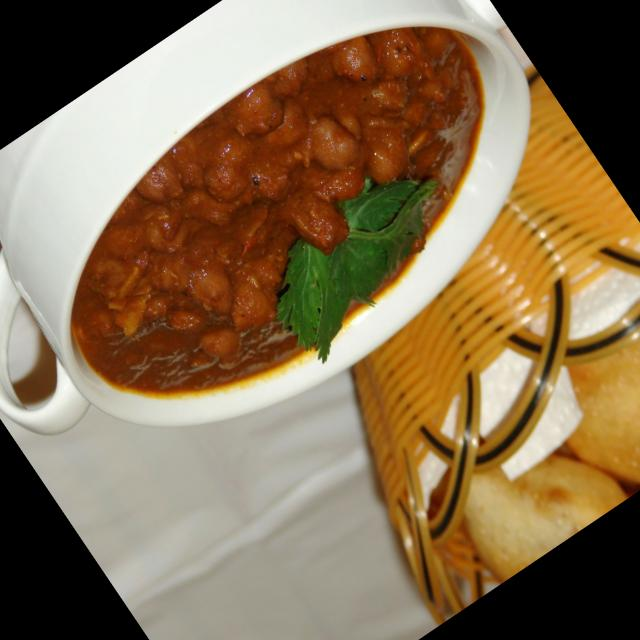Bhatura: (434, 406, 628, 586), (531, 287, 640, 509)
Chole: (9, 0, 562, 457)
